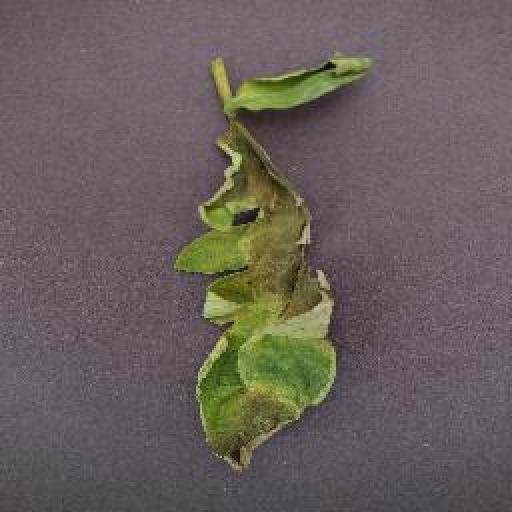disease_tomato: (166, 120, 338, 470), (235, 50, 373, 112)
